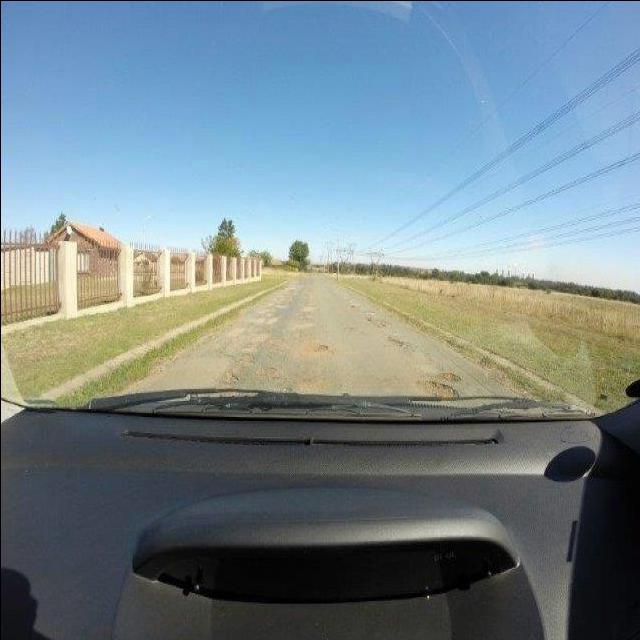lubang: (208, 354, 248, 390), (286, 362, 332, 392), (416, 366, 460, 396), (250, 296, 284, 325), (254, 359, 282, 382), (383, 332, 410, 352), (307, 336, 329, 354), (295, 302, 318, 316), (360, 306, 376, 322), (374, 316, 389, 332)
